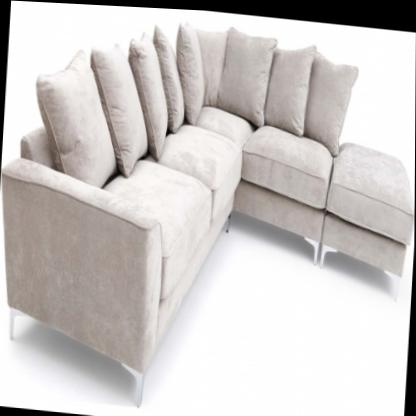Sofa: (21, 17, 244, 302), (233, 41, 414, 266)
